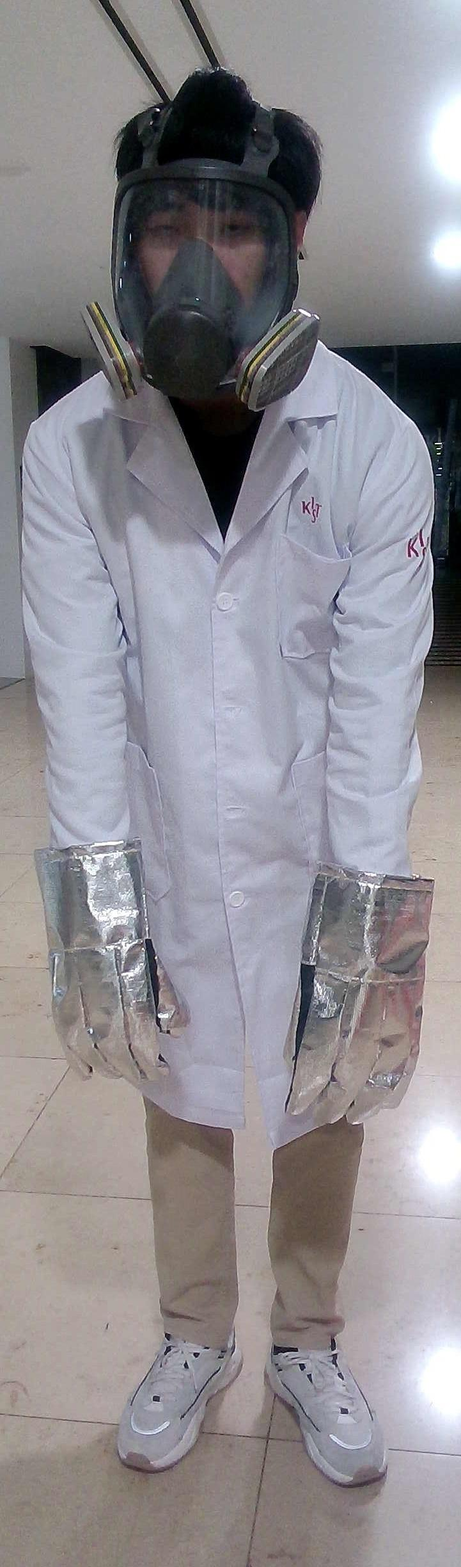Lab_coat: (18, 335, 436, 1150)
